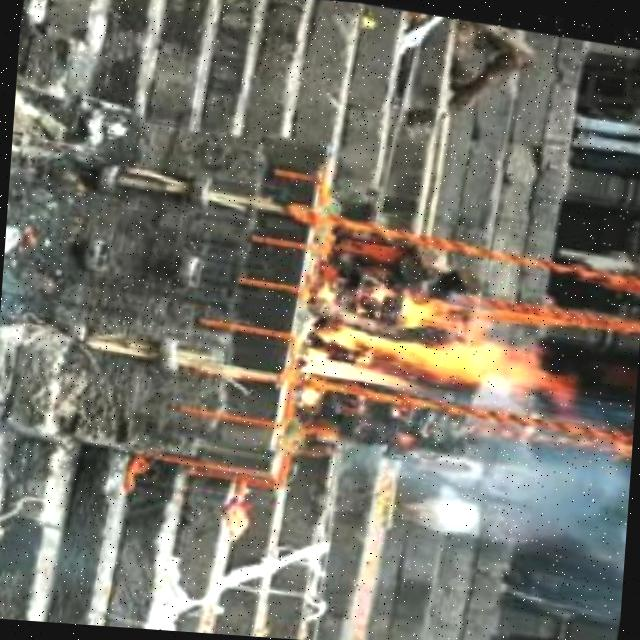fire: (293, 271, 559, 418)
